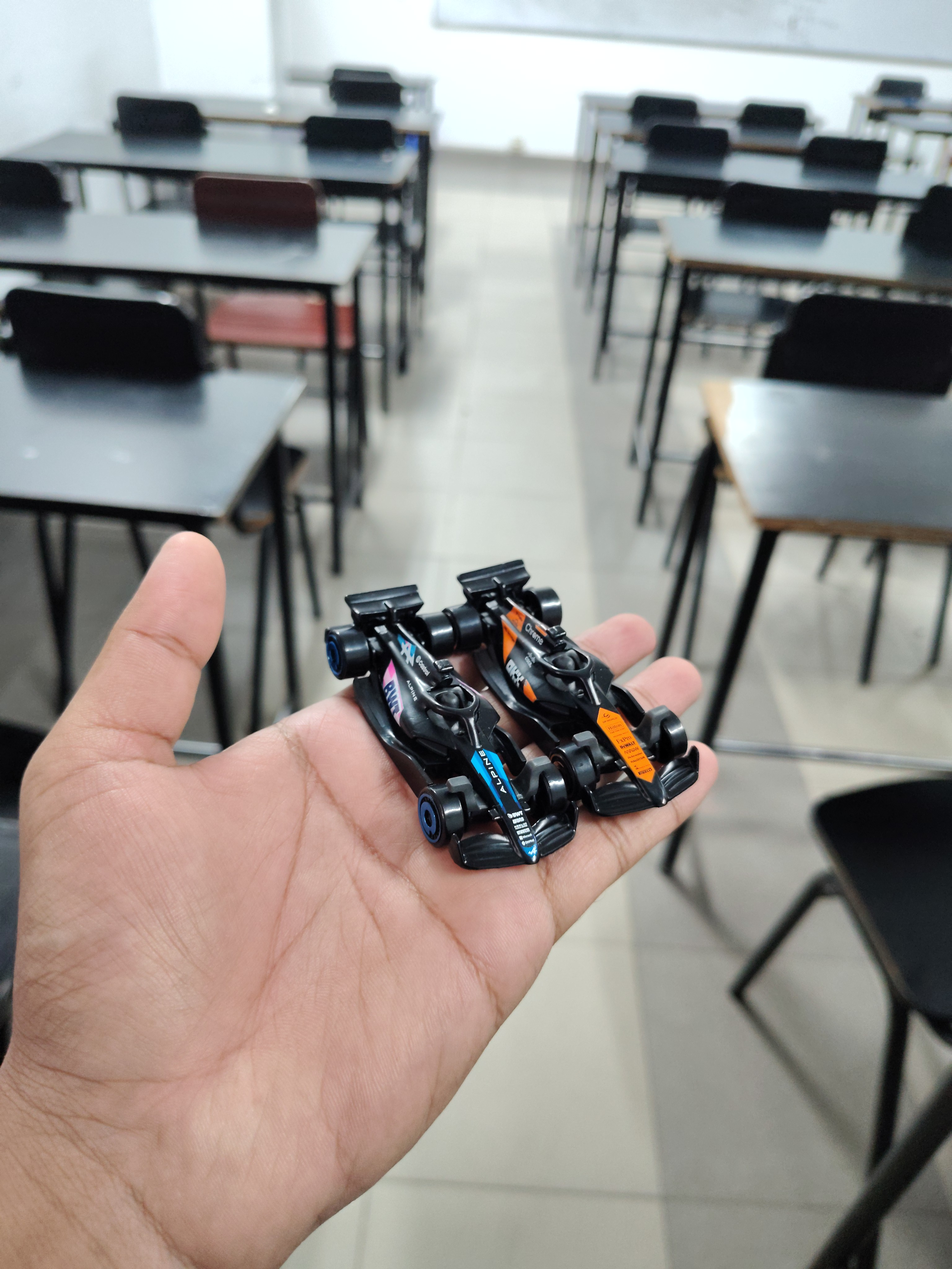Alpine A524: (268, 539, 533, 860)
McLaren MCL40: (421, 490, 728, 809)
